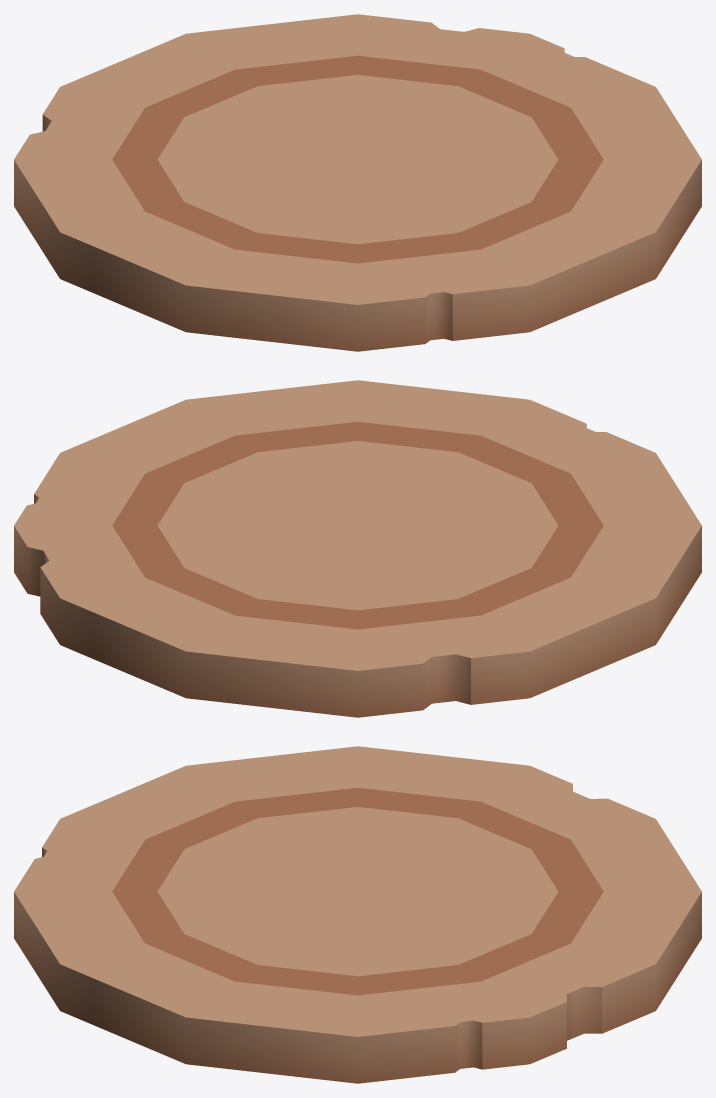
Rendered from cutting-board-round.glb.
3 views of the same model, one above another, from view 1: azimuth 30°, elevation 25°; view 2: azimuth 150°, elevation 25°; view 3: azimuth 270°, elevation 25° (orthographic).
Parts seen in each view (by area): view 1: cutting-board-round; view 2: cutting-board-round; view 3: cutting-board-round.
Boxes of the visible parts, x1,y1,x2,y2 form: cutting-board-round: (14,14,701,351); cutting-board-round: (14,380,701,717); cutting-board-round: (14,746,701,1083).
Bounding box in the file's own units: 0.8 × 0.06 × 0.8.
